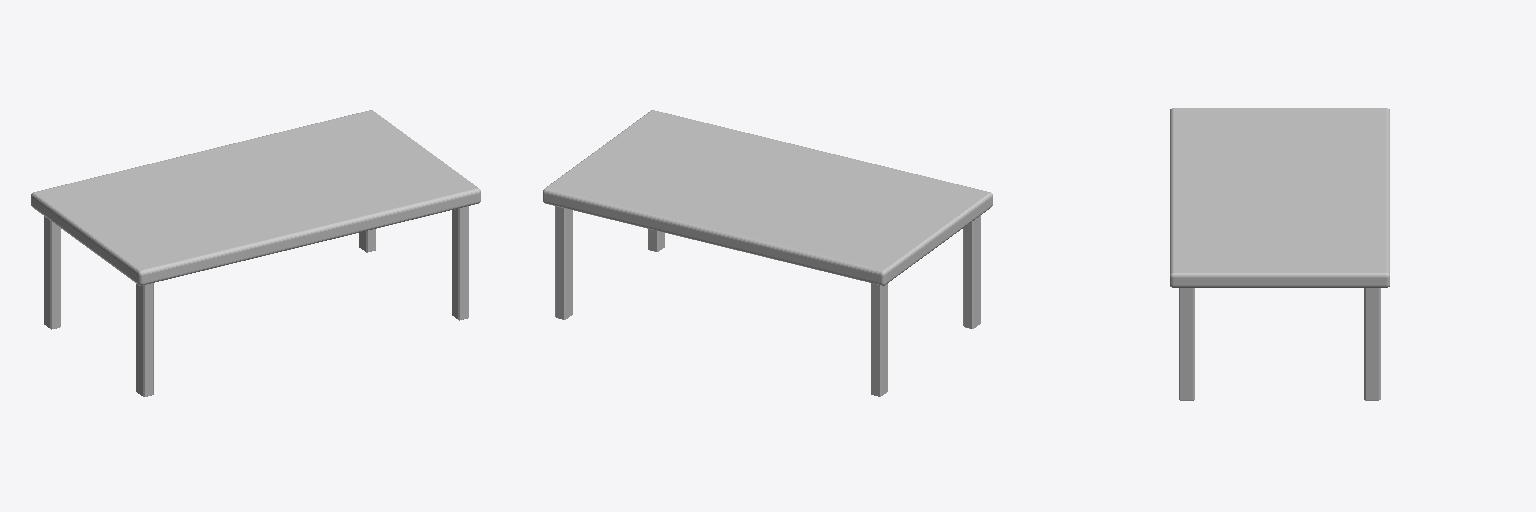
Rendered from table.obj.
The picture shows the model from 3 angles: view 1: azimuth 30°, elevation 25°; view 2: azimuth 150°, elevation 25°; view 3: azimuth 270°, elevation 25°; orthographic projection.
Parts seen in each view (by area): view 1: default, _1, _2, _4; view 2: default, _3, _1, _4; view 3: default, _3, _2.
Boxes of the visible parts, box(x1,y1,x2,y2) form: default: box(31, 110, 480, 285); _1: box(136, 283, 153, 396); _2: box(452, 206, 468, 320); _4: box(44, 216, 60, 329); default: box(543, 110, 992, 285); _3: box(555, 206, 572, 319); _1: box(963, 215, 980, 328); _4: box(871, 283, 887, 396); default: box(1170, 108, 1389, 287); _3: box(1364, 288, 1380, 400); _2: box(1179, 288, 1194, 400).
Bounding box in the file's own units: 23.57 × 8.63 × 13.16.